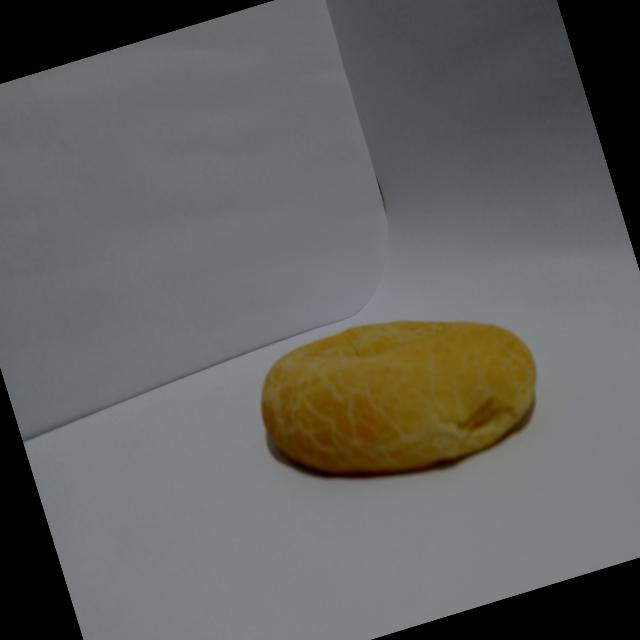Chipa: (230, 266, 568, 530)
